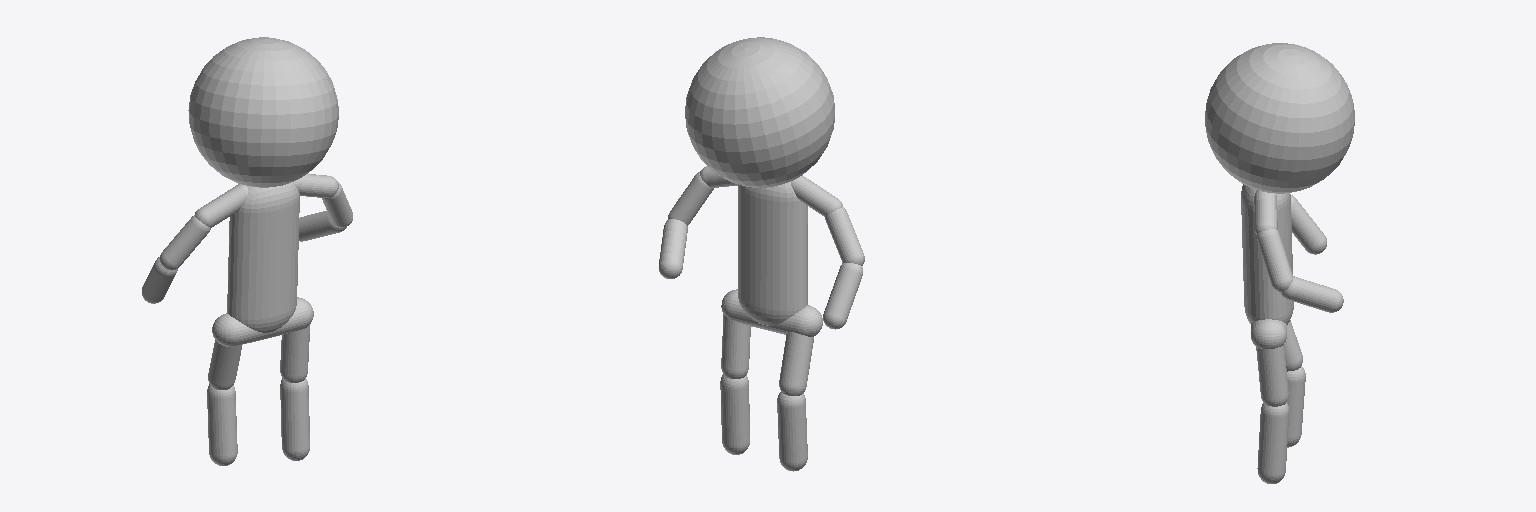
Rendered from Stickman_000040.obj.
3 renders of one model, left to right at view 1: azimuth 30°, elevation 25°; view 2: azimuth 150°, elevation 25°; view 3: azimuth 270°, elevation 25°, orthographic.
Visible parts, largest first — view 1: Head_Sphere.001, Body_Roundcube.002, LowerLegLeft_Roundcube.013, LowerLegRight_Roundcube.011, Hip_Roundcube.005, UpperLegLeft_Roundcube.012, UpperArmRight_Roundcube.015, UpperLegRight_Roundcube.010, ShoulderRight_Roundcube.014, LowerArmRight_Roundcube.016, LowerArmLeft_Roundcube.019, ShoulderLeft_Roundcube.017 (+1 smaller); view 2: Head_Sphere.001, Body_Roundcube.002, LowerLegRight_Roundcube.011, LowerLegLeft_Roundcube.013, Hip_Roundcube.005, UpperLegRight_Roundcube.010, LowerArmRight_Roundcube.016, UpperLegLeft_Roundcube.012, LowerArmLeft_Roundcube.019, UpperArmRight_Roundcube.015, UpperArmLeft_Roundcube.018, ShoulderRight_Roundcube.014; view 3: Head_Sphere.001, Body_Roundcube.002, LowerLegLeft_Roundcube.013, UpperLegLeft_Roundcube.012, UpperArmLeft_Roundcube.018, LowerArmLeft_Roundcube.019, LowerArmRight_Roundcube.016, LowerLegRight_Roundcube.011, Hip_Roundcube.005, ShoulderLeft_Roundcube.017, UpperLegRight_Roundcube.010.
Boxes of the visible parts, x1,y1,x2,y2 form: Head_Sphere.001: [188, 37, 338, 187]; Body_Roundcube.002: [227, 182, 299, 332]; LowerLegLeft_Roundcube.013: [280, 378, 309, 460]; LowerLegRight_Roundcube.011: [207, 384, 237, 465]; Hip_Roundcube.005: [212, 297, 313, 346]; UpperLegLeft_Roundcube.012: [280, 325, 309, 382]; UpperArmRight_Roundcube.015: [160, 215, 210, 270]; UpperLegRight_Roundcube.010: [208, 340, 241, 389]; ShoulderRight_Roundcube.014: [195, 184, 247, 227]; LowerArmRight_Roundcube.016: [142, 257, 177, 303]; LowerArmLeft_Roundcube.019: [299, 211, 346, 241]; ShoulderLeft_Roundcube.017: [293, 174, 338, 197]; Head_Sphere.001: [685, 37, 834, 187]; Body_Roundcube.002: [738, 182, 807, 325]; LowerLegRight_Roundcube.011: [777, 392, 807, 471]; LowerLegLeft_Roundcube.013: [720, 374, 749, 454]; Hip_Roundcube.005: [721, 289, 822, 336]; UpperLegRight_Roundcube.010: [779, 332, 813, 395]; LowerArmRight_Roundcube.016: [823, 263, 862, 329]; UpperLegLeft_Roundcube.012: [721, 314, 750, 378]; LowerArmLeft_Roundcube.019: [659, 219, 687, 278]; UpperArmRight_Roundcube.015: [825, 207, 864, 265]; UpperArmLeft_Roundcube.018: [668, 172, 713, 225]; ShoulderRight_Roundcube.014: [790, 175, 842, 216]; Head_Sphere.001: [1205, 43, 1354, 193]; Body_Roundcube.002: [1241, 184, 1293, 324]; LowerLegLeft_Roundcube.013: [1257, 402, 1288, 483]; UpperLegLeft_Roundcube.012: [1256, 345, 1288, 406]; UpperArmLeft_Roundcube.018: [1257, 229, 1292, 292]; LowerArmLeft_Roundcube.019: [1280, 276, 1343, 312]; LowerArmRight_Roundcube.016: [1291, 195, 1326, 254]; LowerLegRight_Roundcube.011: [1287, 366, 1305, 447]; Hip_Roundcube.005: [1251, 319, 1286, 349]; ShoulderLeft_Roundcube.017: [1254, 190, 1277, 234]; UpperLegRight_Roundcube.010: [1284, 320, 1302, 371].
Size of the model in its own units: 5.56 by 11.48 by 3.74.